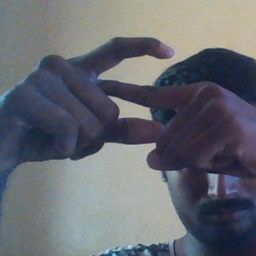E: (69, 34, 189, 152)
